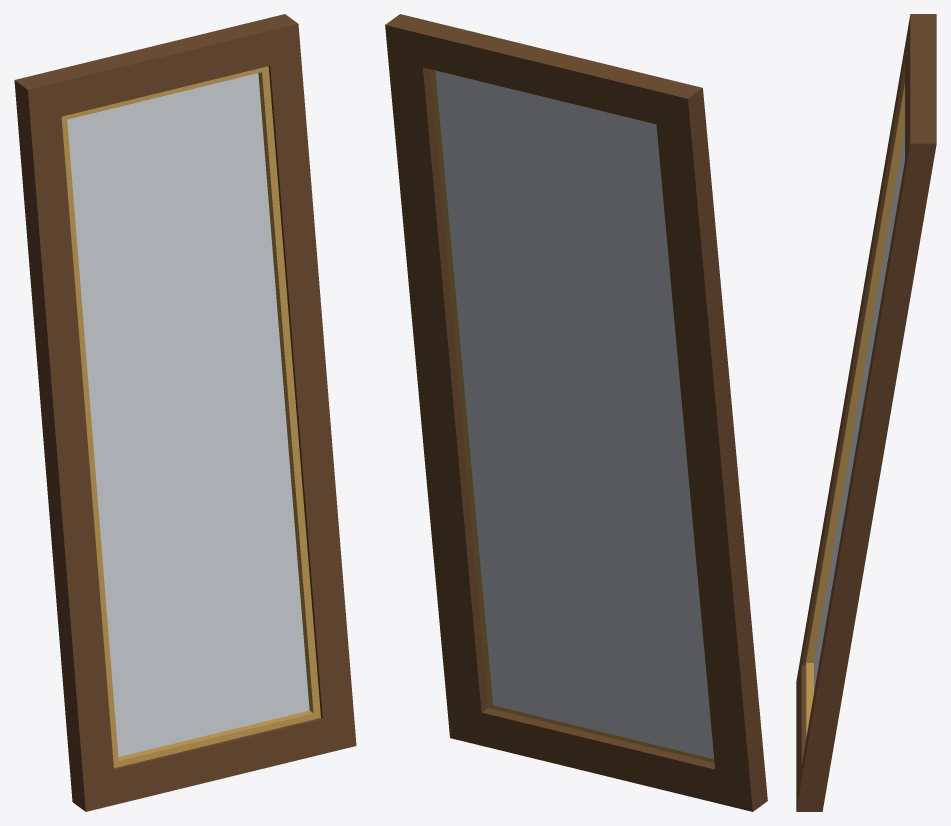
Rendered from FN_Mirror_Floor.obj.
The picture shows the model from 3 angles, left to right: view 1: azimuth 30°, elevation 25°; view 2: azimuth 150°, elevation 25°; view 3: azimuth 270°, elevation 25°; orthographic projection. The views are drawn at different scales.
Parts seen in each view (by area): view 1: FN_Mirror_Floor; view 2: FN_Mirror_Floor; view 3: FN_Mirror_Floor.
Part boxes in pixels (left/top/right/bottom): FN_Mirror_Floor: left=14, top=14, right=356, bottom=811; FN_Mirror_Floor: left=385, top=14, right=767, bottom=811; FN_Mirror_Floor: left=796, top=14, right=936, bottom=811.
Bounding box in the file's own units: 0.7 × 1.68 × 0.32.
Materials: 1 (1 with a texture image).
